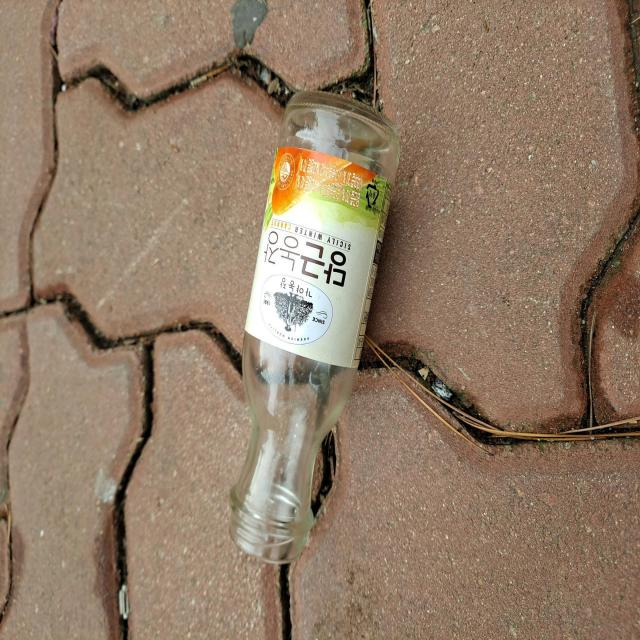glass: (230, 91, 400, 564)
